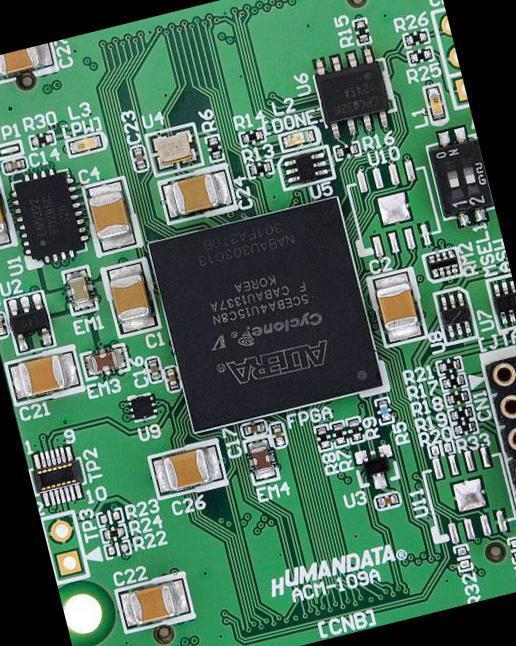Capacitor: (365, 264, 431, 349), (114, 572, 194, 632), (6, 347, 84, 405), (150, 439, 226, 498), (102, 260, 160, 337), (157, 165, 235, 222), (82, 178, 138, 255), (0, 42, 55, 86), (0, 172, 16, 254), (371, 488, 402, 512), (144, 356, 163, 384), (0, 155, 27, 174), (129, 145, 148, 172), (270, 421, 288, 448), (241, 419, 266, 437), (164, 365, 180, 393), (0, 311, 9, 338)
Connector: (476, 342, 515, 528), (432, 8, 469, 109), (41, 511, 88, 583)
IC: (147, 195, 384, 433), (5, 161, 93, 268), (312, 42, 399, 140), (27, 441, 89, 509), (3, 291, 54, 354), (433, 284, 478, 343), (351, 441, 401, 494), (277, 145, 333, 189), (485, 270, 515, 331), (125, 389, 159, 425)
Led: (64, 130, 106, 157), (278, 125, 319, 151), (423, 84, 446, 123)
Pads: (339, 156, 444, 262), (414, 442, 515, 550), (103, 538, 135, 560), (452, 541, 474, 572), (427, 439, 456, 459), (96, 506, 123, 526), (505, 533, 515, 565)
Resistor: (423, 248, 463, 282), (372, 396, 394, 423), (345, 416, 365, 444), (402, 29, 430, 48), (28, 129, 56, 148), (353, 19, 371, 48), (205, 135, 224, 162), (334, 141, 361, 160), (329, 421, 348, 448), (447, 404, 474, 423), (100, 525, 127, 544), (439, 372, 467, 390), (443, 388, 470, 406), (314, 423, 332, 450), (451, 420, 478, 438), (408, 48, 434, 66), (239, 128, 265, 146), (249, 160, 275, 178), (436, 356, 462, 374)
Switch: (420, 117, 496, 229)
